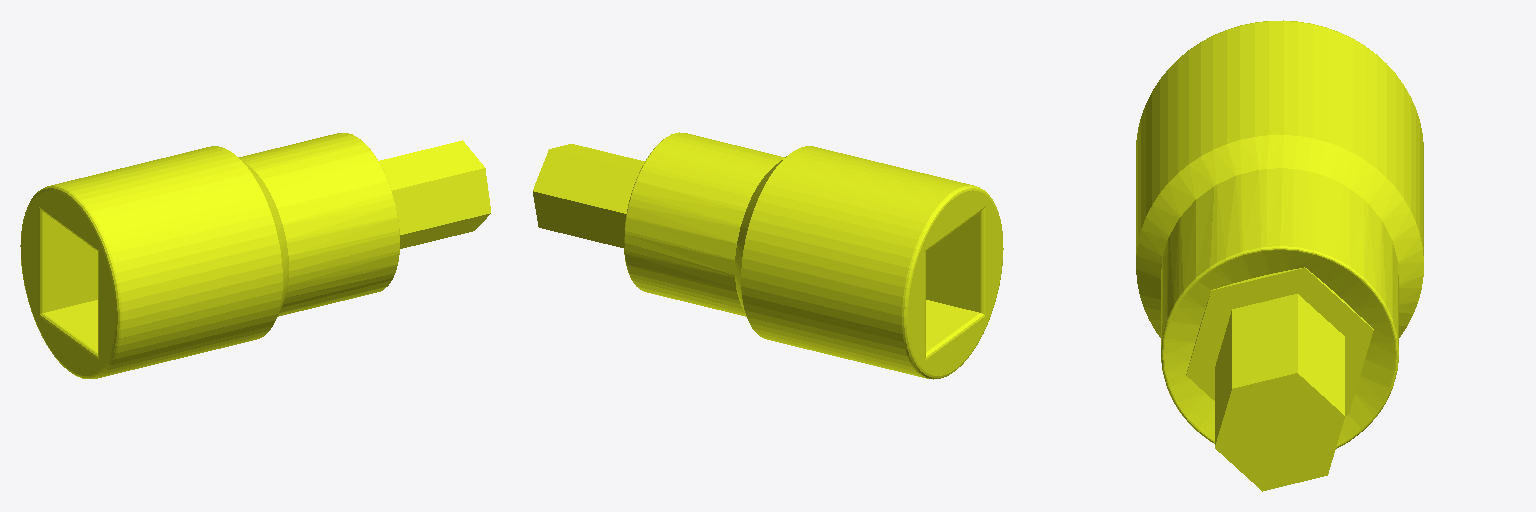
URDF robot description (hexagon_sleeve):
<?xml version="1.0" encoding="utf-8"?>
<!-- This URDF was automatically created by SolidWorks to URDF Exporter! Originally created by [author] ([email redacted]) 
     Commit Version: 1.6.0-4-g7f85cfe  Build Version: 1.6.7995.38578
     For more information, please see http://wiki.ros.org/sw_urdf_exporter -->
<robot
  name="hexagon_sleeve">
  <link
    name="hexagon_sleeve_base_link">
    <inertial>
      <origin
        xyz="0 -1.3878E-17 0"
        rpy="0 0 0" />
      <mass
        value="0.011735" />
      <inertia
        ixx="7.5362E-07"
        ixy="3.6954E-13"
        ixz="1.3504E-13"
        iyy="1.4944E-06"
        iyz="-1.8927E-13"
        izz="1.4944E-06" />
    </inertial>
    <visual>
      <origin
        xyz="0 0 0"
        rpy="0 0 0" />
      <geometry>
        <mesh
          filename="package://hexagon_sleeve/meshes/hexagon_sleeve_base_link.dae" />
      </geometry>
      <material
        name="">
        <color
          rgba="0.9451 1 0.15294 1" />
      </material>
    </visual>
    <collision>
      <origin
        xyz="0 0 0"
        rpy="0 0 0" />
      <geometry>
        <mesh
          filename="package://hexagon_sleeve/meshes/hexagon_sleeve_base_link.dae" />
      </geometry>
    </collision>
  </link>
</robot>

--- Render facts (derived) ---
Views: 3 orthographic renders of the robot side by side, from view 1: azimuth 30°, elevation 25°; view 2: azimuth 150°, elevation 25°; view 3: azimuth 270°, elevation 25°.
Model hexagon_sleeve with 1 links and 0 joints (none), rooted at hexagon_sleeve_base_link, posed every joint at zero.
Visible links, largest first — view 1: hexagon_sleeve_base_link; view 2: hexagon_sleeve_base_link; view 3: hexagon_sleeve_base_link.
Link boxes in pixels (left/top/right/bottom): hexagon_sleeve_base_link: left=20, top=133, right=490, bottom=378; hexagon_sleeve_base_link: left=533, top=132, right=1003, bottom=379; hexagon_sleeve_base_link: left=1136, top=20, right=1423, bottom=491.
Size in the robot's own frame: 0.0535 by 0.023 by 0.023 metres.
1 mesh visuals loaded from 1 distinct referenced files (1 Collada DAE).